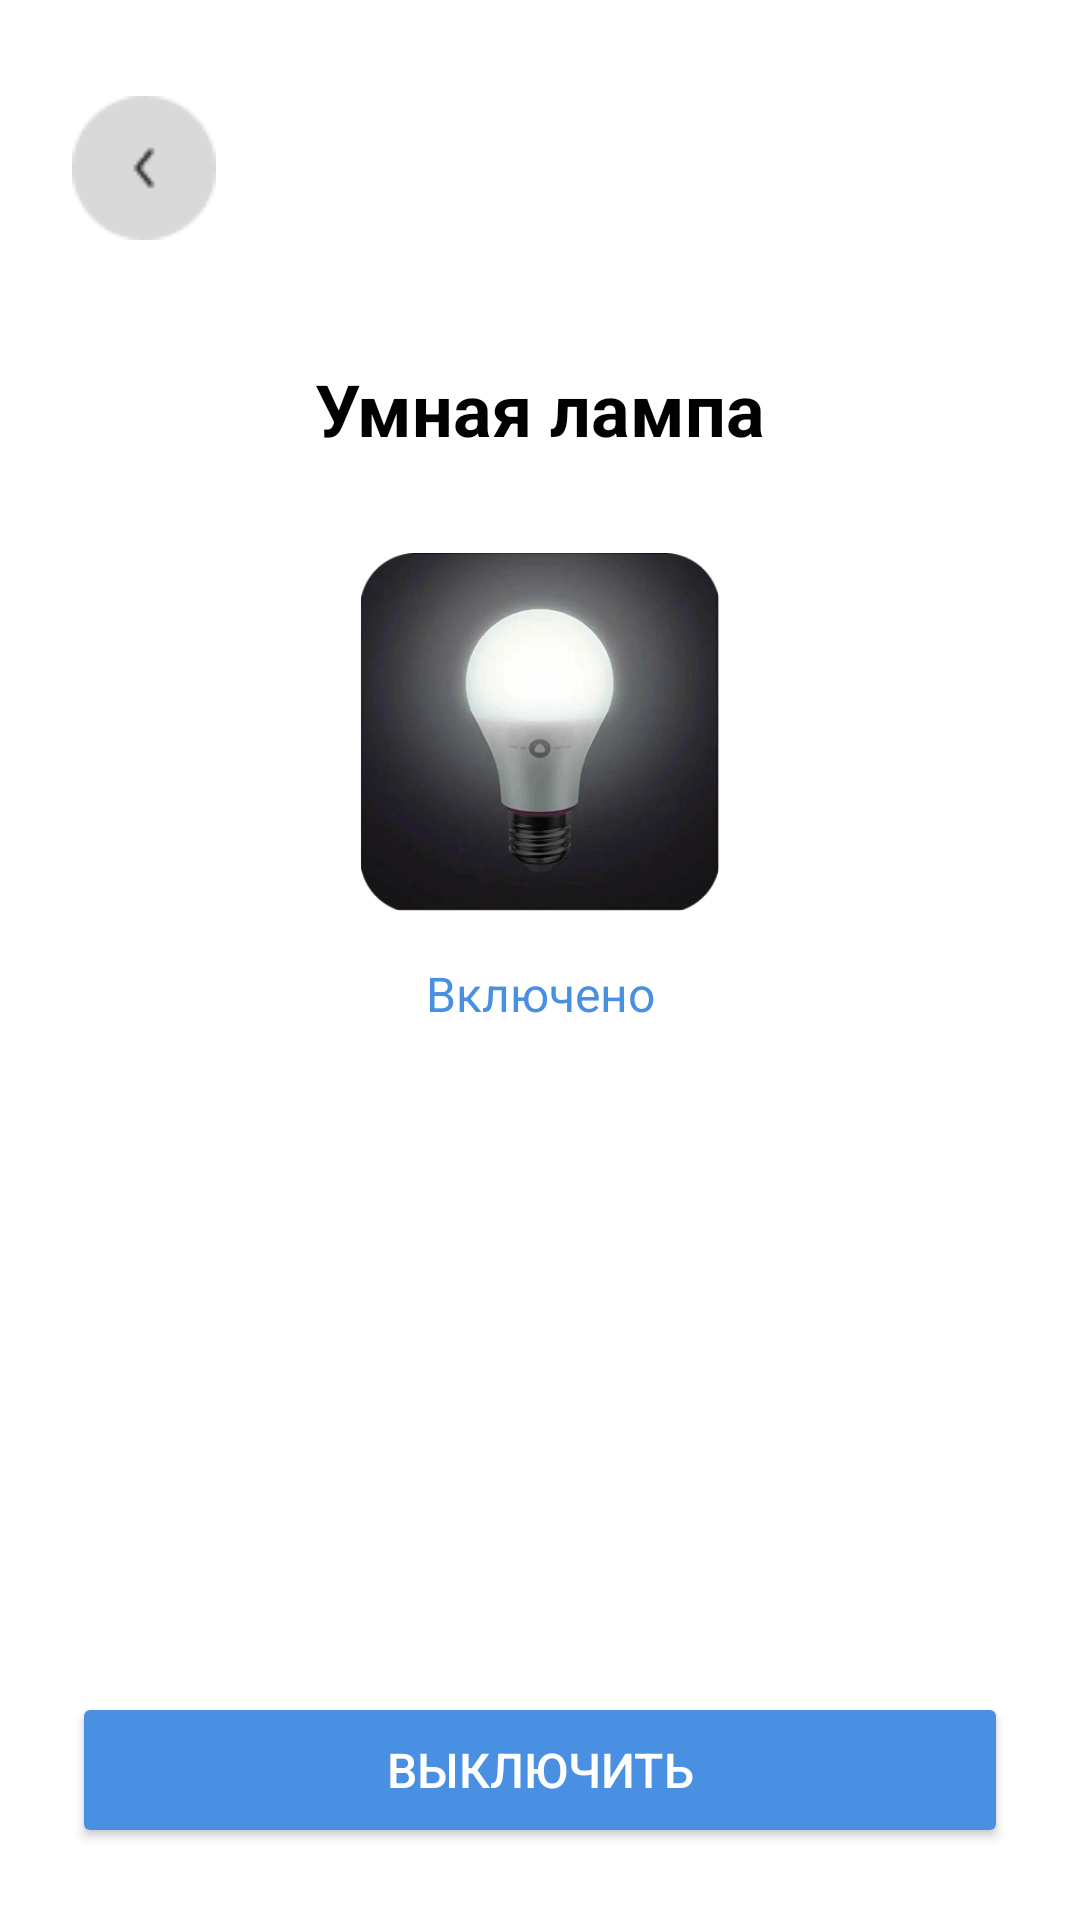

Screen size 1080px×1920px. Icon name, then its center in pixels as [x,y]:
arrow back: [144,168]
